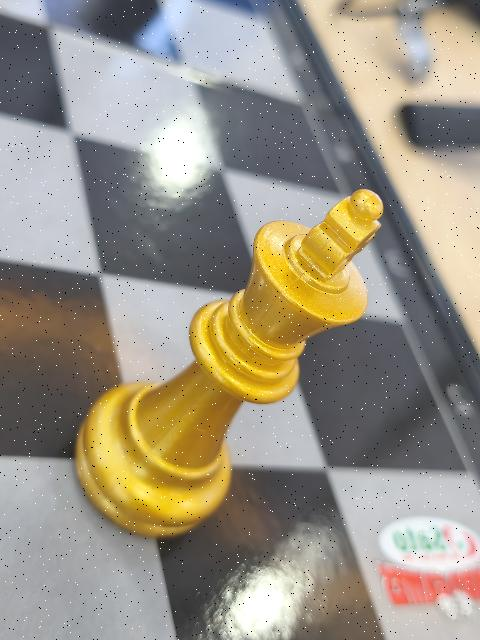black_king: (81, 188, 385, 534)
